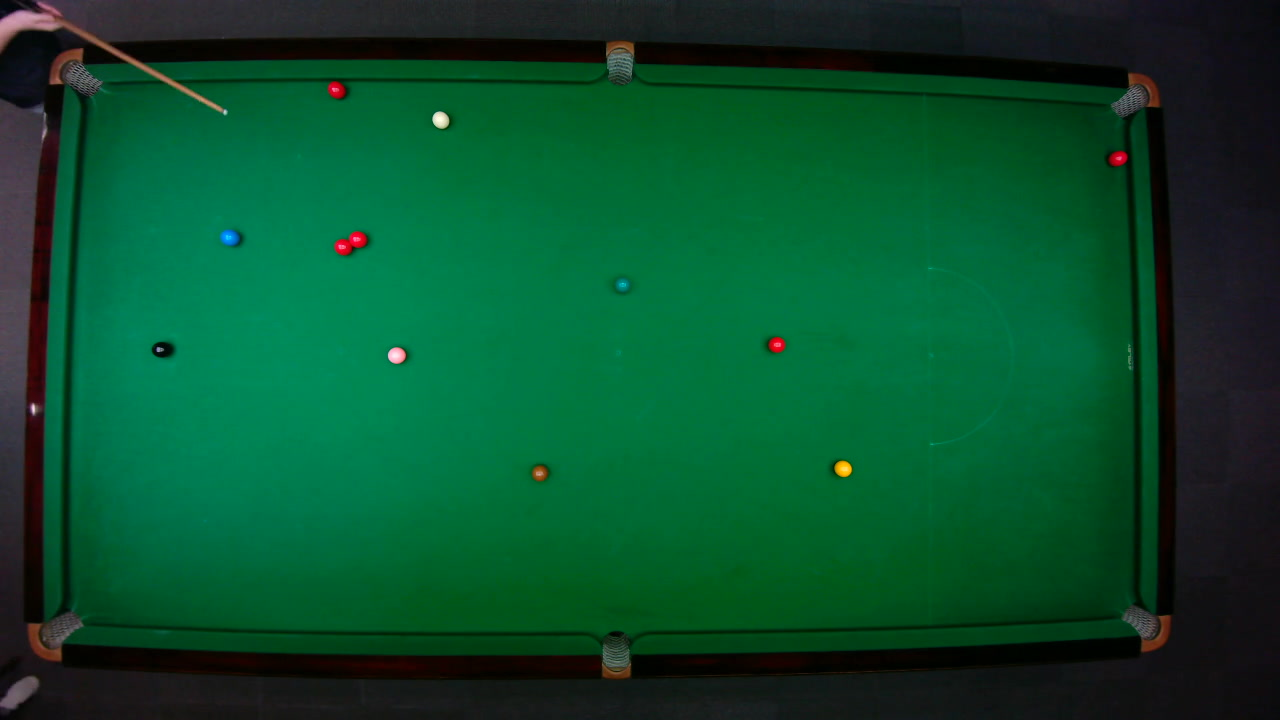bag: (26, 608, 84, 660), (47, 47, 103, 97), (1119, 602, 1171, 651), (1108, 72, 1160, 118), (601, 629, 630, 679), (605, 39, 633, 86)
black: (150, 340, 172, 358)
blue: (219, 228, 240, 246)
brown: (530, 463, 548, 481)
cue: (52, 10, 226, 113)
green: (613, 276, 631, 293)
pink: (386, 345, 406, 364)
red: (332, 236, 353, 255), (347, 229, 368, 248), (1106, 149, 1129, 166), (766, 335, 786, 353), (326, 80, 346, 98)
white: (430, 110, 450, 129)
yellow: (832, 458, 852, 477)
zone: (927, 265, 1013, 445)
